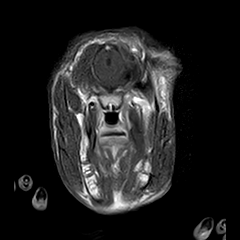Brain: (60, 13, 159, 111)
